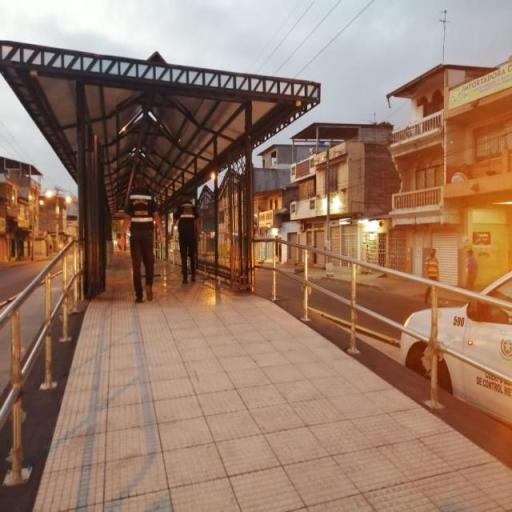person: (118, 171, 167, 305), (173, 192, 202, 285), (463, 251, 480, 302), (427, 249, 441, 303)
